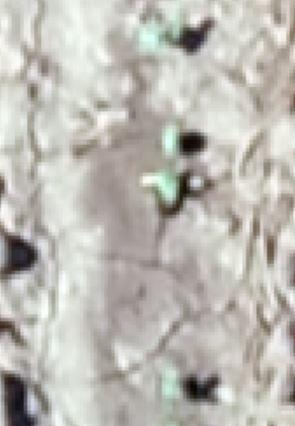cotton: (156, 172, 178, 203), (142, 20, 168, 45), (164, 126, 178, 153), (166, 372, 180, 398)
